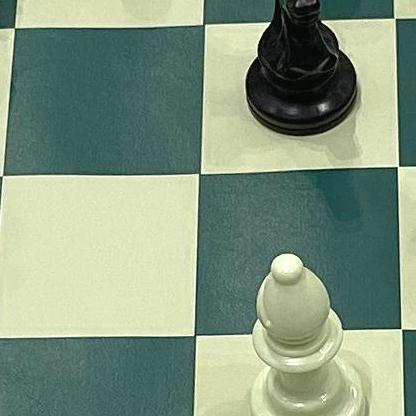black-knight: (238, 0, 369, 135)
white-bishop: (240, 247, 379, 416)
